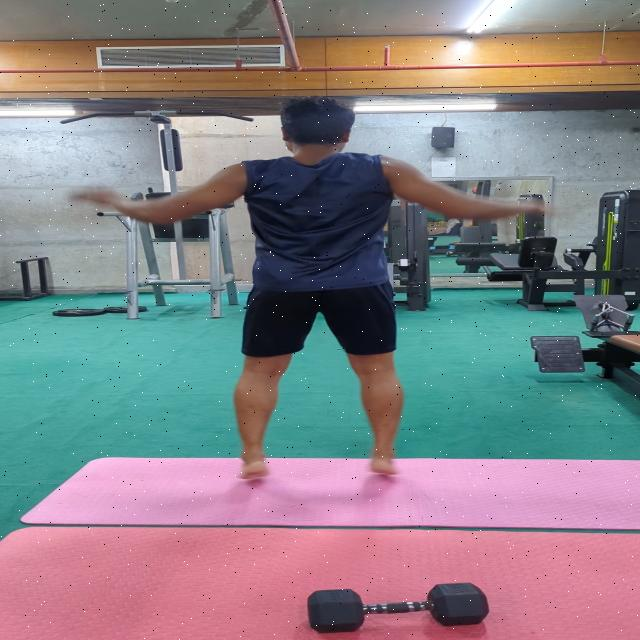Normal_JumpingJacks: (67, 79, 559, 497)
